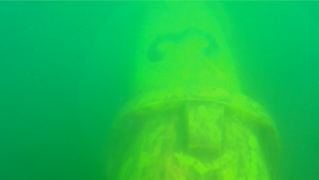3: (146, 27, 218, 63)
pipe: (111, 1, 284, 179)
